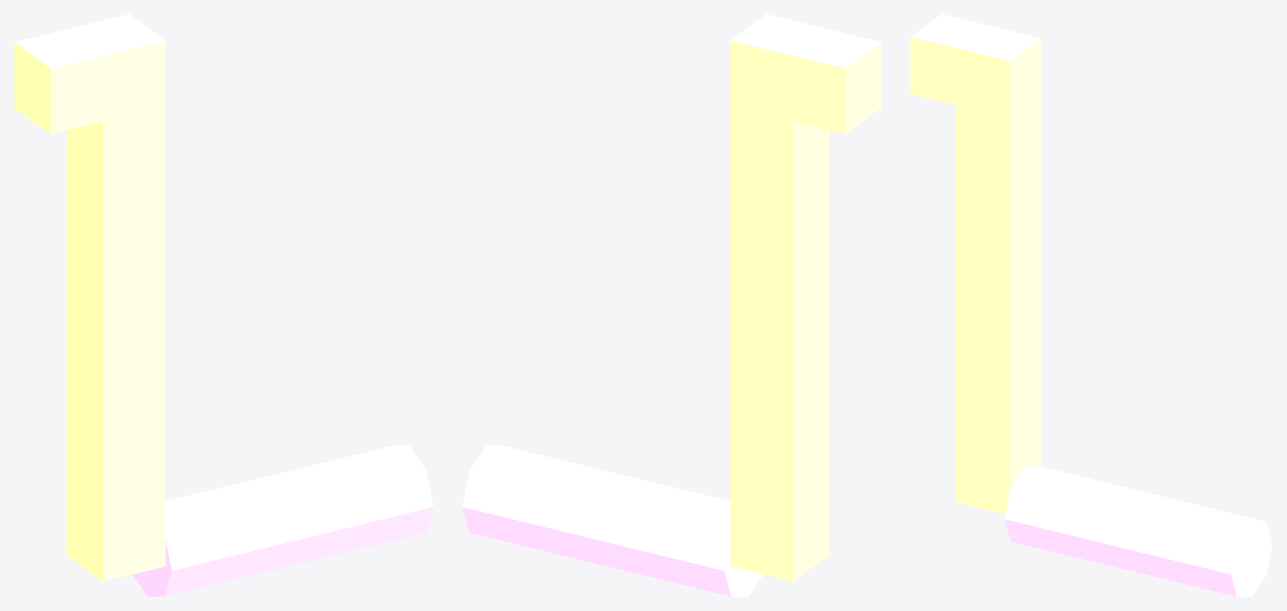
Rendered from dun_crank_glow.glb.
3 views of the same model, side by side, from view 1: azimuth 30°, elevation 25°; view 2: azimuth 150°, elevation 25°; view 3: azimuth 330°, elevation 25° (orthographic). The views are drawn at different scales.
Visible parts, largest first — view 1: dun_crank_glow; view 2: dun_crank_glow; view 3: dun_crank_glow.
Part boxes in pixels (bbox=[...]): dun_crank_glow: bbox=[14, 14, 433, 596]; dun_crank_glow: bbox=[462, 14, 881, 596]; dun_crank_glow: bbox=[910, 14, 1272, 596].
Size of the model in its own units: 0.36 by 0.52 by 0.08.
